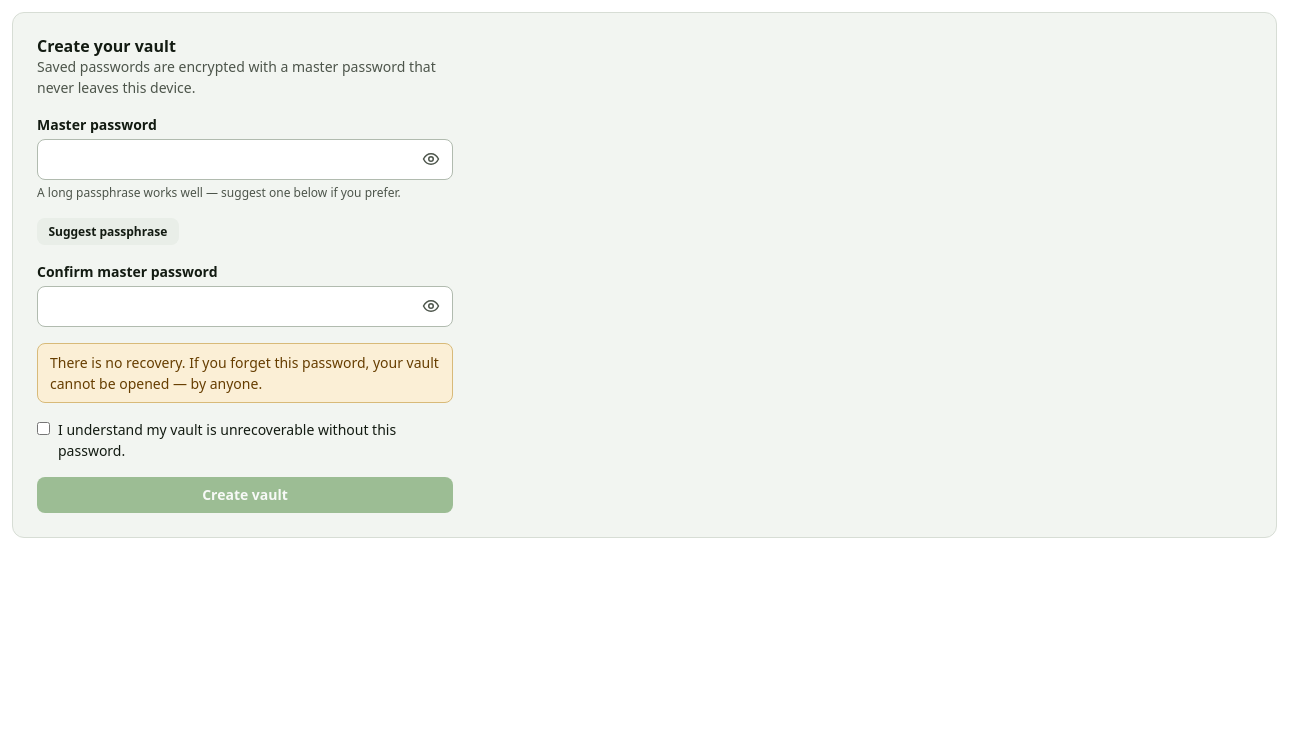
VaultView › walks first-run → create → empty state
The image size is (1292, 732).
Expected: the heading "Create your vault" is shown, [37,35,176,57]
In the password field labelled "Master password": (245, 160) [37,139,453,180], type "a-long-master-pw"
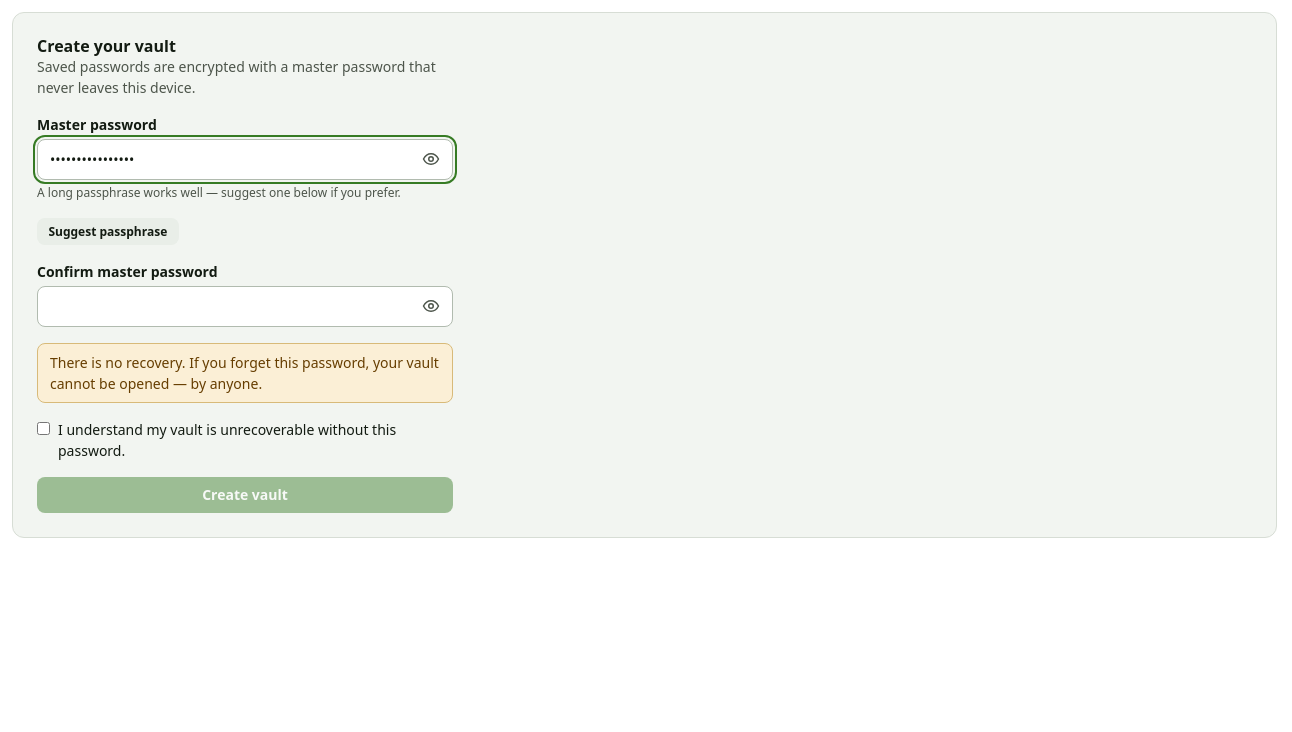
In the password field labelled "Confirm master password": (245, 306) [37,286,453,327], type "a-long-master-pw"
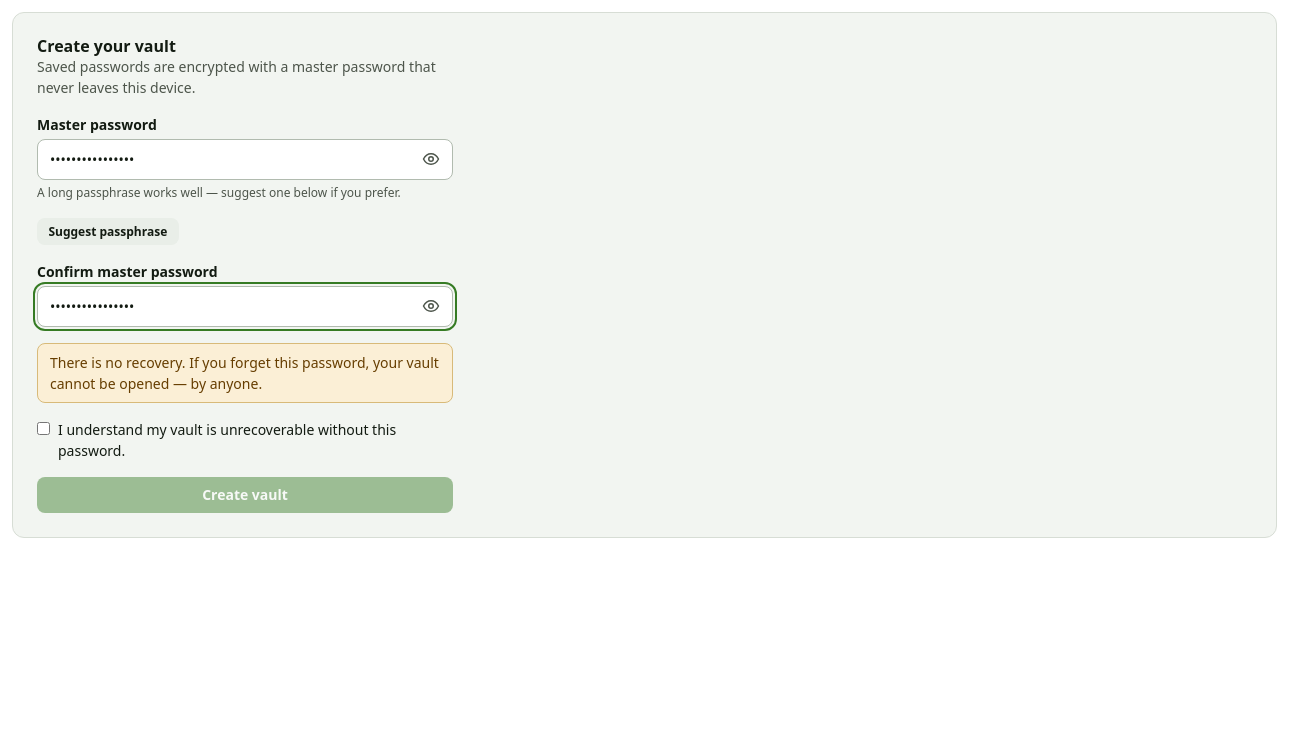
Click the checkbox: (44, 428) [37,422,50,435]
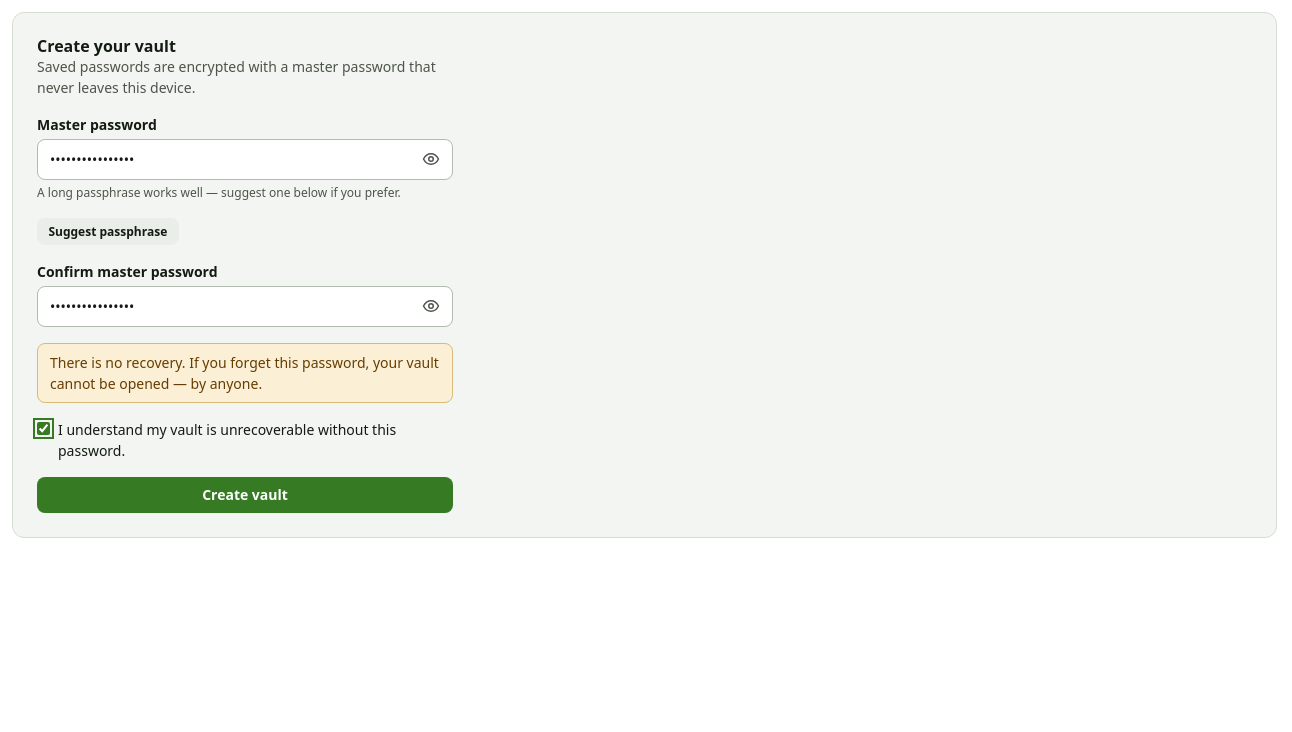
Click the button "Create vault": (245, 495) [37,477,453,513]
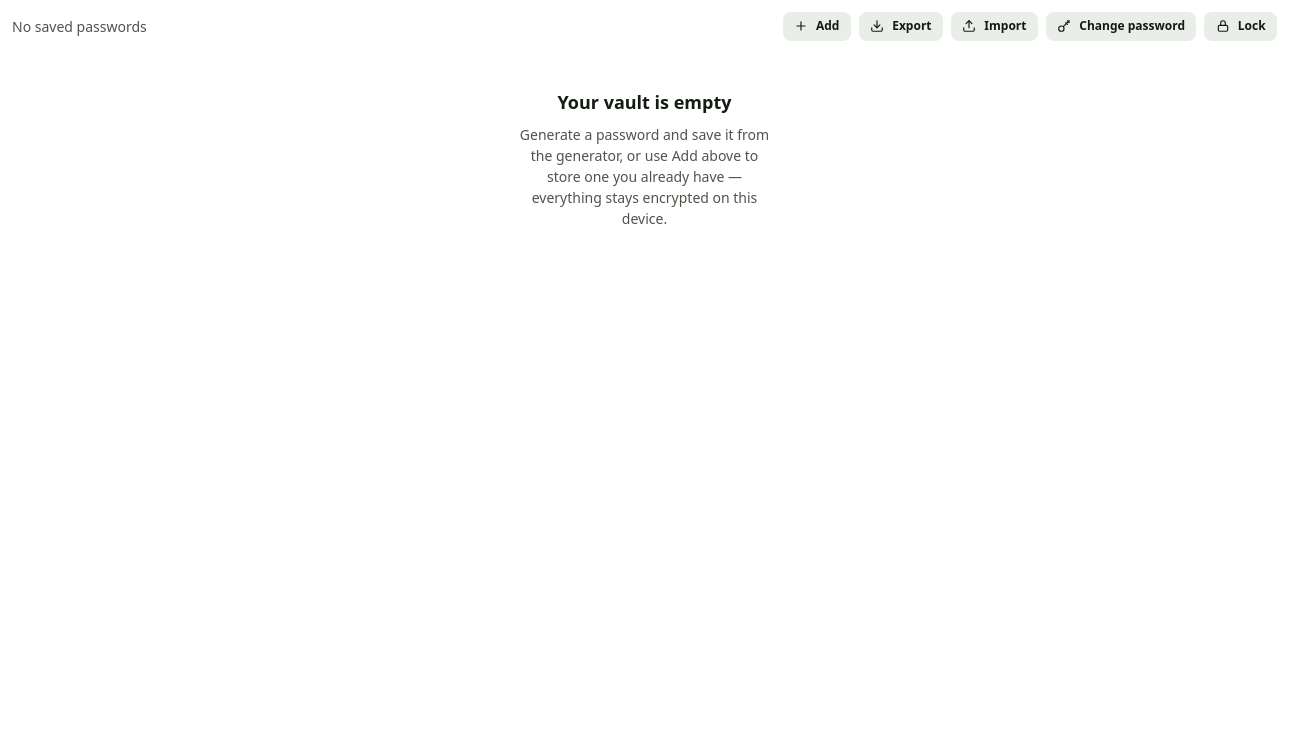
Expected: the text "Your vault is empty" is shown, [558,89,732,116]
Expected: the text "No saved passwords" is shown, [12,16,147,37]
